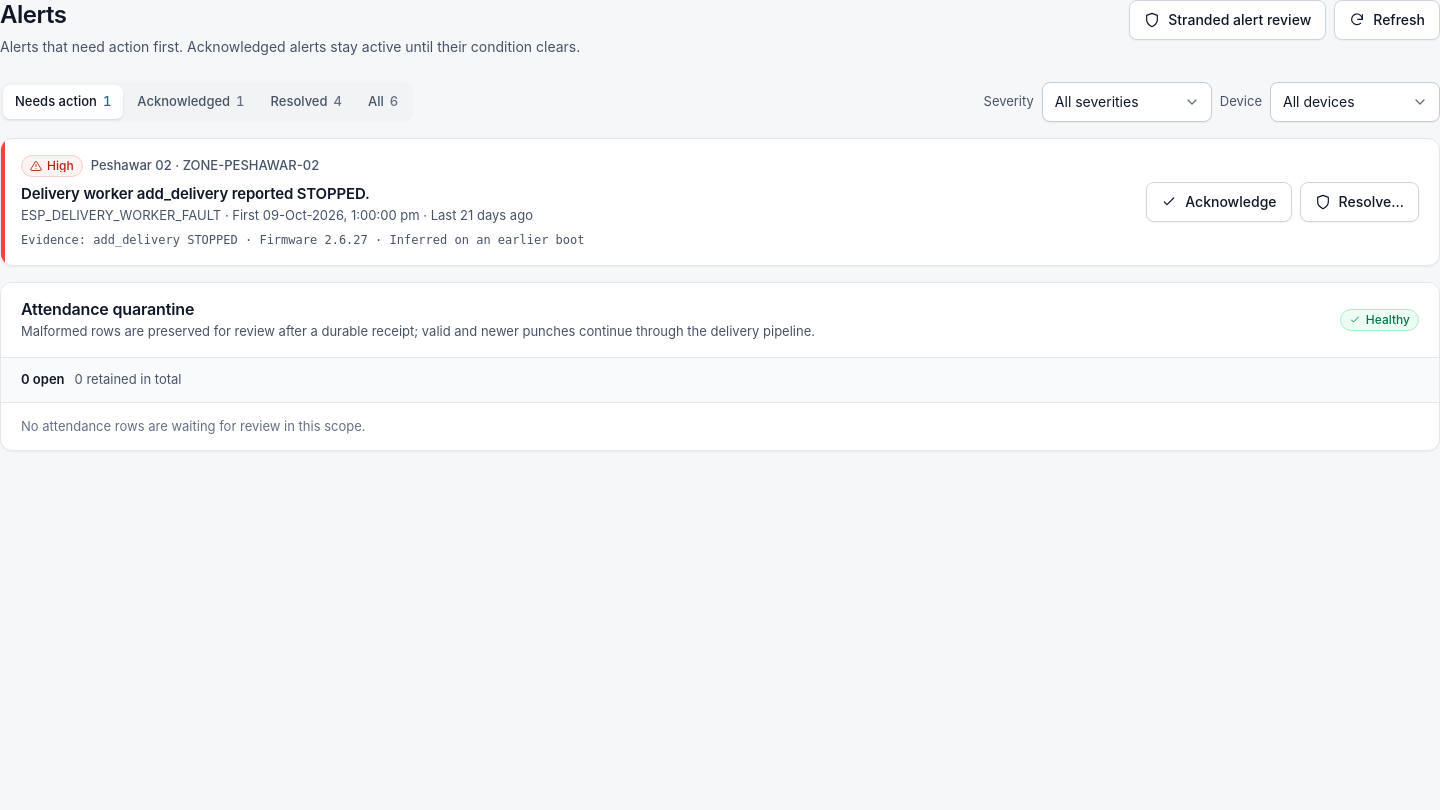
Test case: Alerts queues › requires a reason and password to resolve, explains a 409 and keeps one idempotency key
Click the button "Resolve…": coordinates (1359, 202) [1300,182,1419,222]
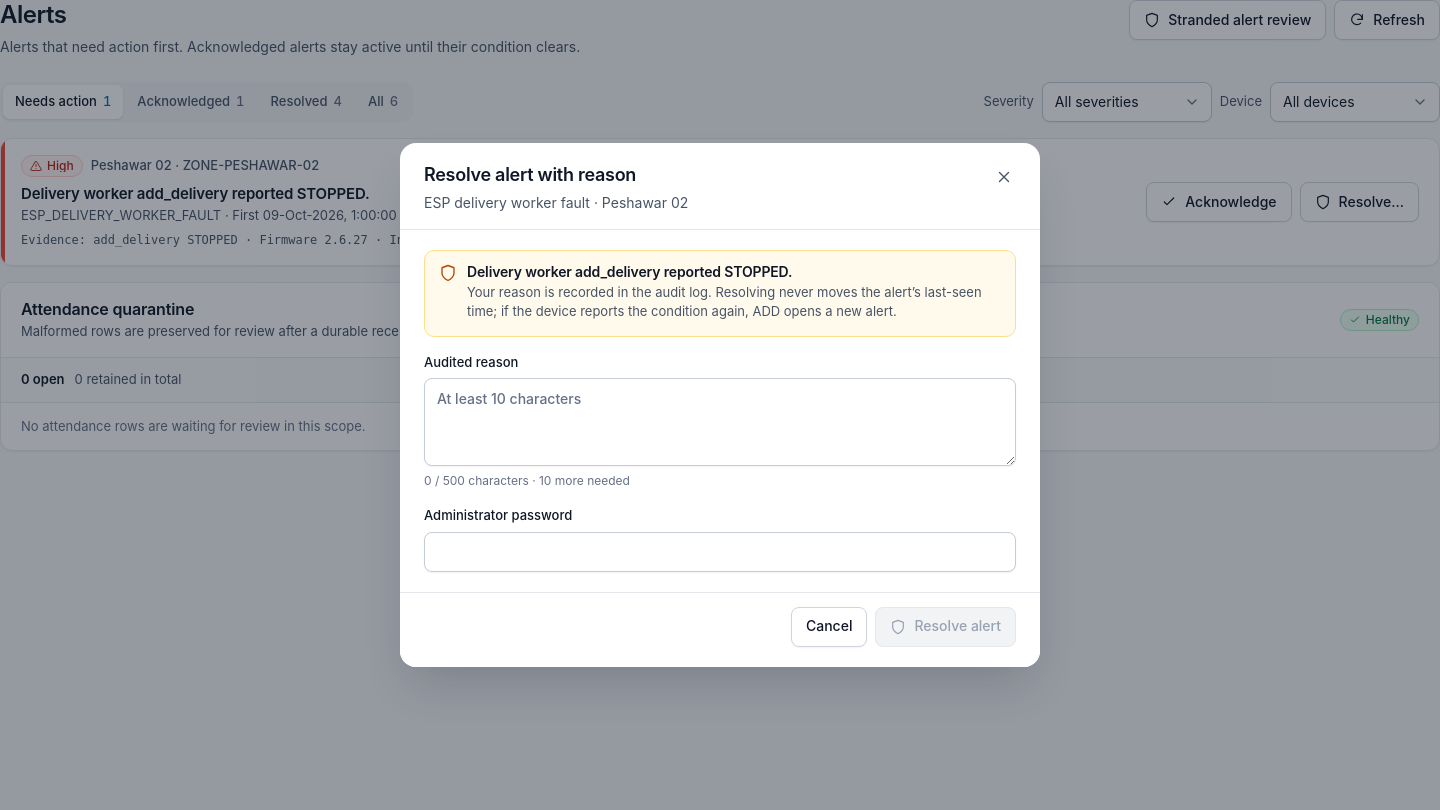
Check: the button "Resolve alert" is disabled, box [875,607,1016,647]
In the text box labelled "Audited reason": coordinates (720, 422) [424,378,1016,466], type "Too short"
In the password field labelled "Administrator password": coordinates (720, 552) [424,532,1016,572], type "local-step-up"
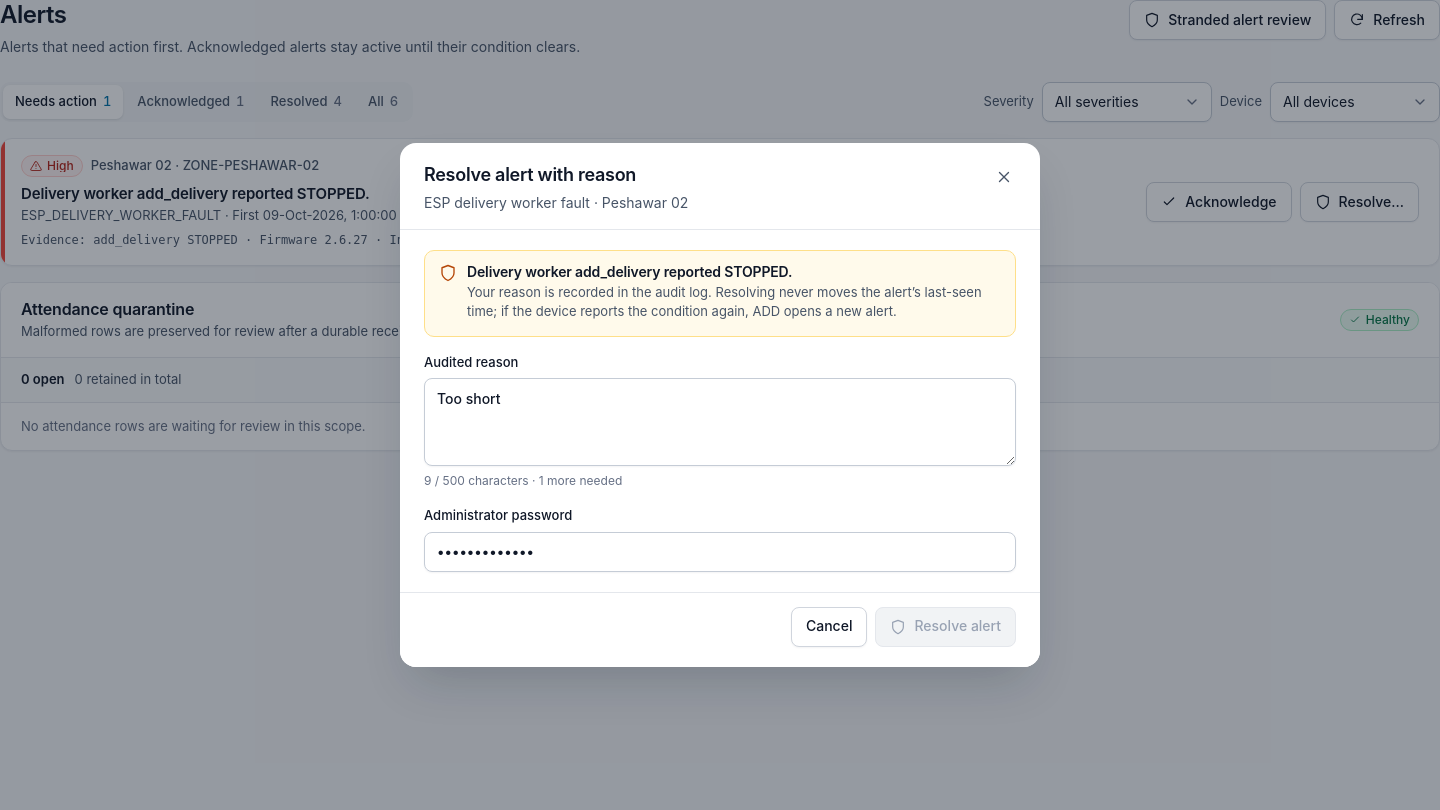
Check: the button "Resolve alert" is disabled, box [875,607,1016,647]
Check: the text "9 / 500 characters · 1 more needed" is shown, box [424,473,622,488]
Replace the text in the text box labelled "Audited reason" with "Raised under the 2.6.27 recovery image; 2.5.2 cannot report workers.": coordinates (720, 422) [424,378,1016,466]
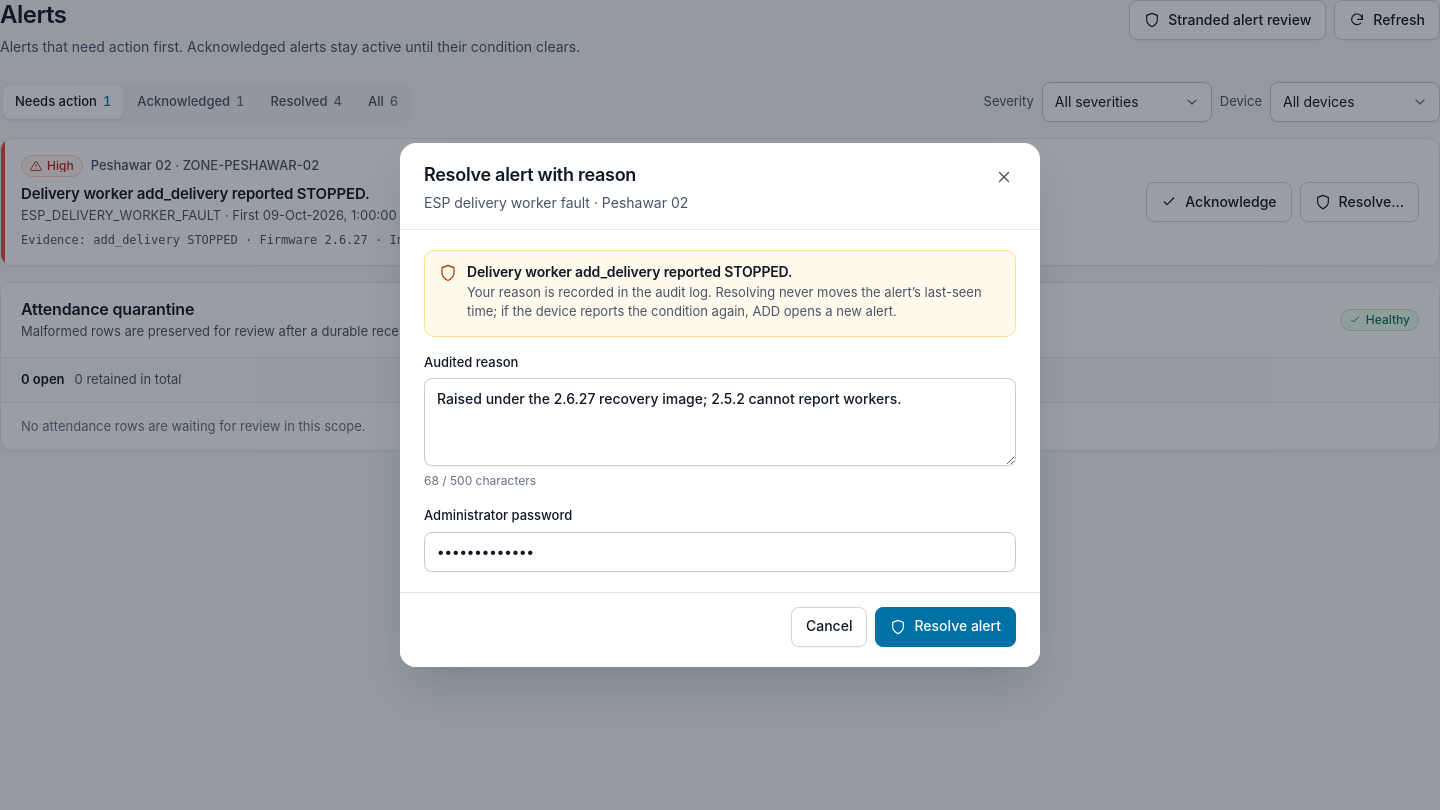
Check: the button "Resolve alert" is enabled
Click the button "Resolve alert": coordinates (946, 627) [875,607,1016,647]
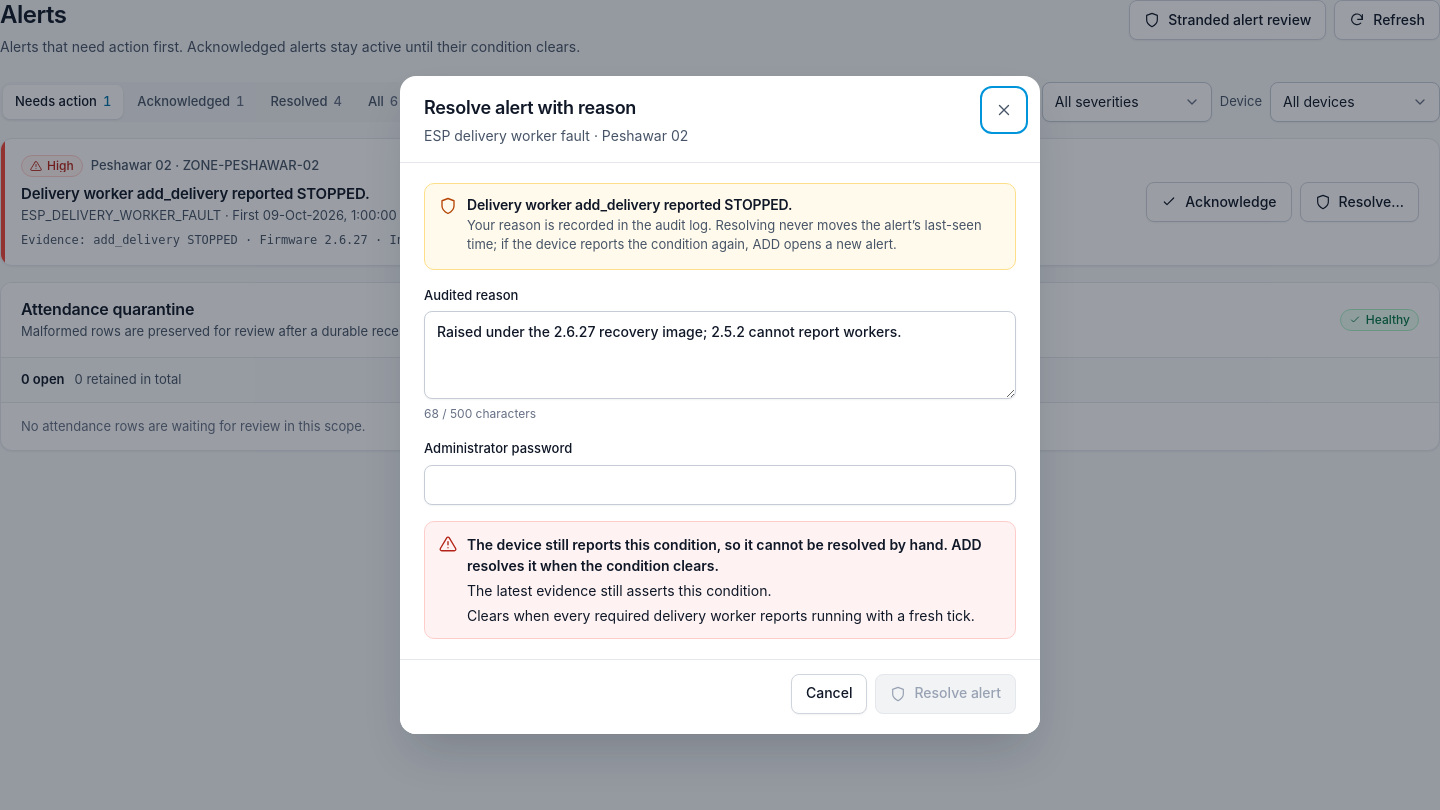
Check: the text "The device still reports this condition" is shown, box [467,536,982,574]
Check: the text "The latest evidence still asserts this condition." is shown, box [467,582,772,599]
Check: the text "Clears when every required delivery worker reports running with a fresh tick." is shown, box [467,605,1001,626]
In the password field labelled "Administrator password": coordinates (720, 485) [424,465,1016,505], type "local-step-up"
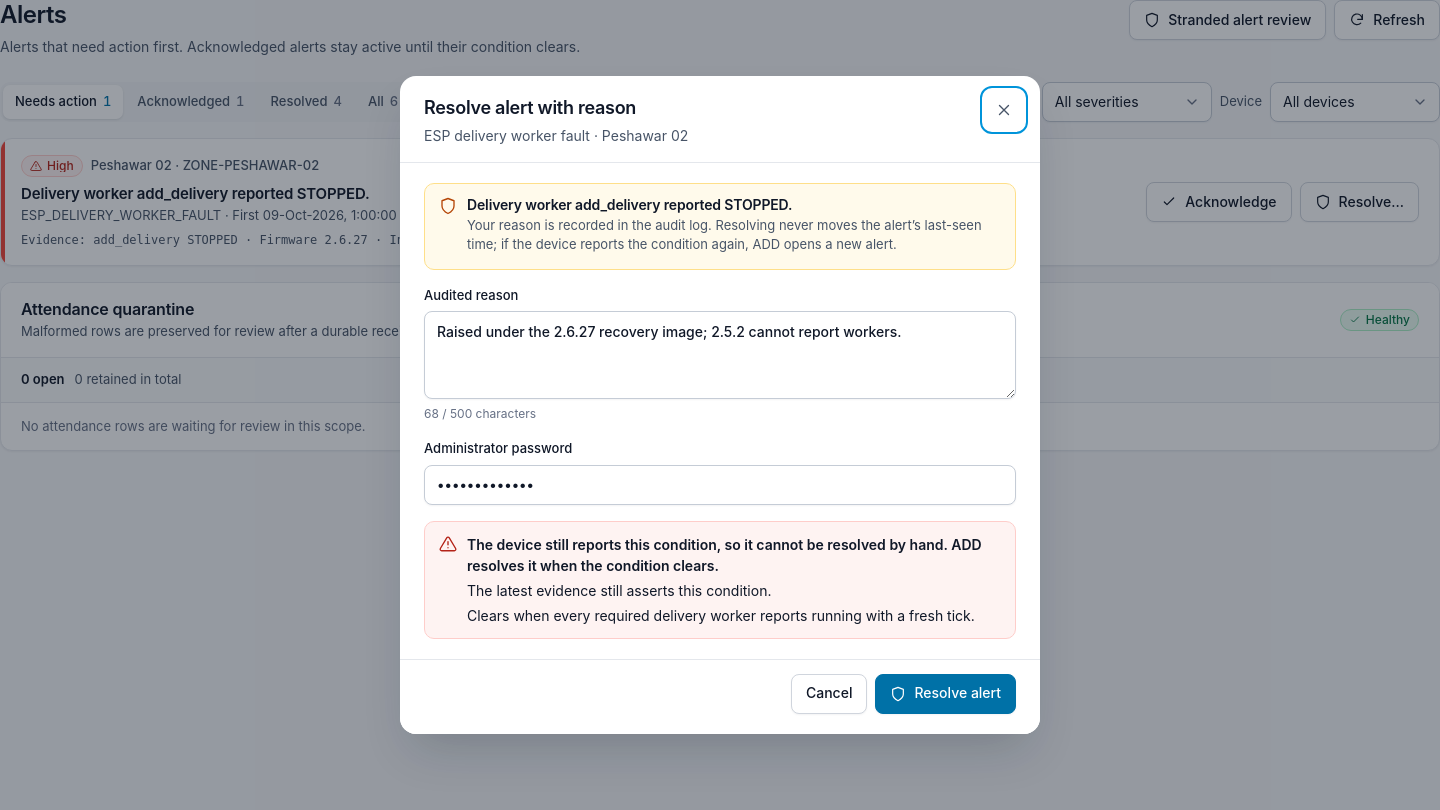
Click the button "Resolve alert": coordinates (946, 694) [875,674,1016,714]
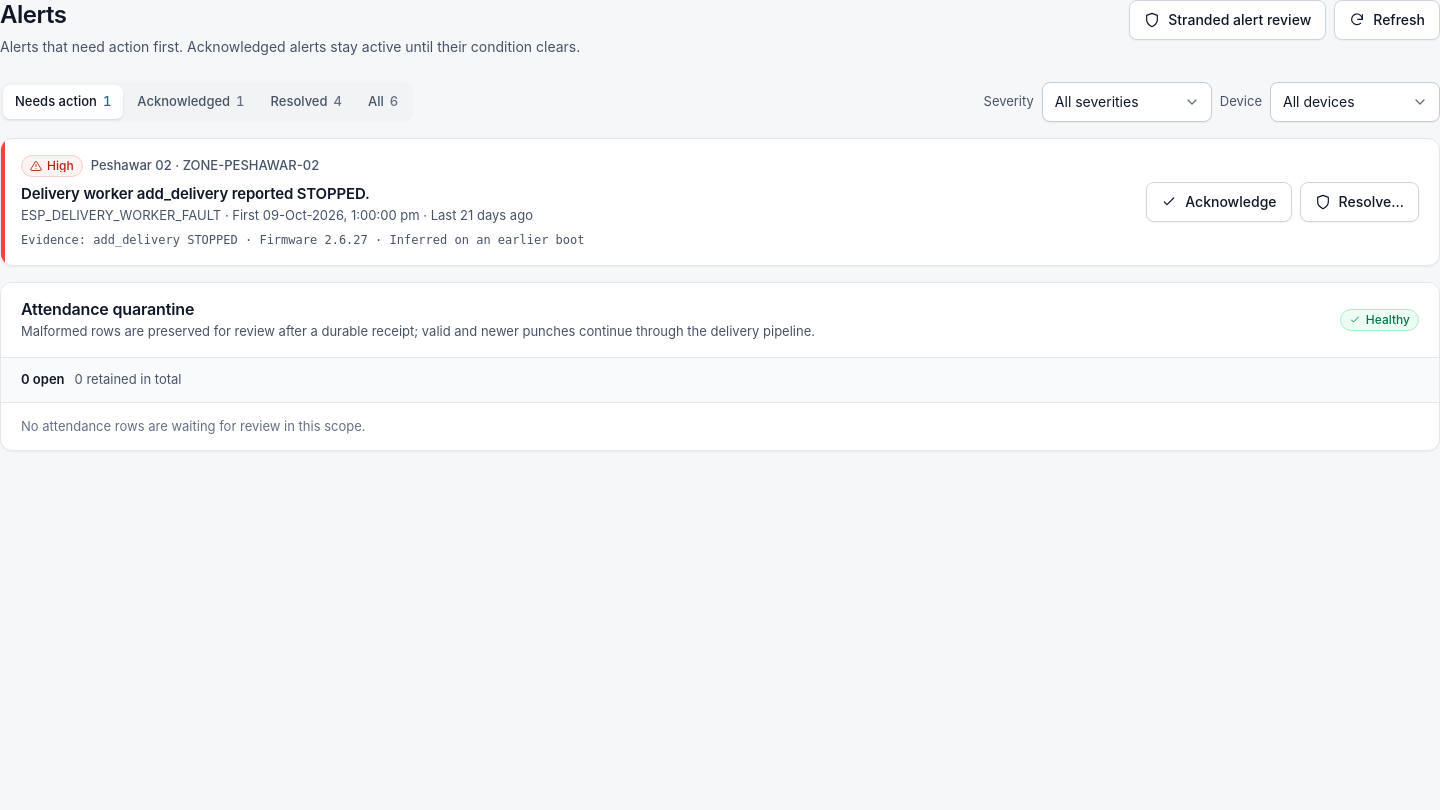
Check: the heading "Resolve alert with reason" is gone
